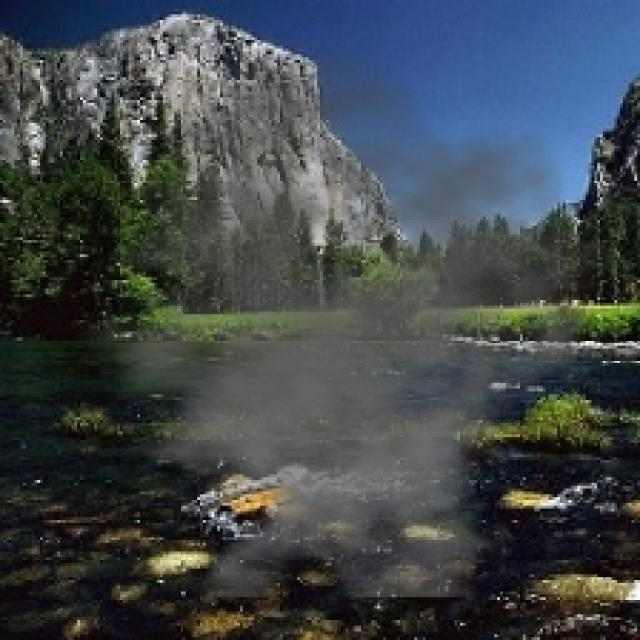smoke: (52, 49, 617, 597)
